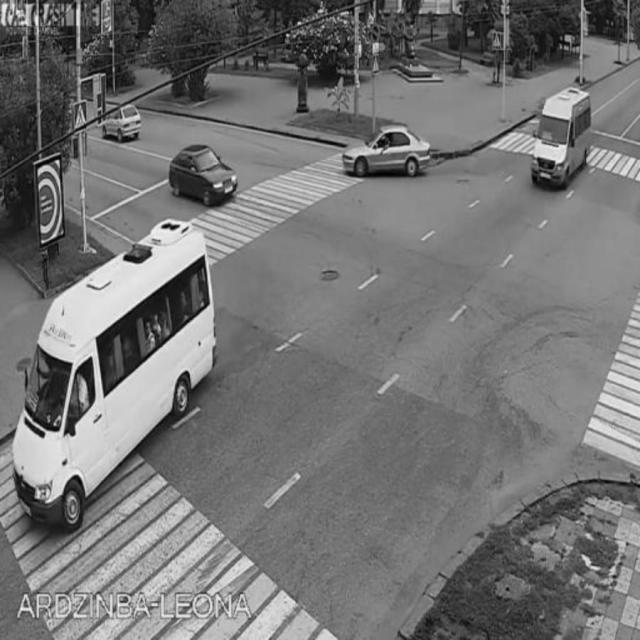vehicle: (10, 223, 216, 524), (533, 91, 591, 189), (339, 126, 433, 181), (167, 145, 241, 202), (101, 97, 142, 144)
